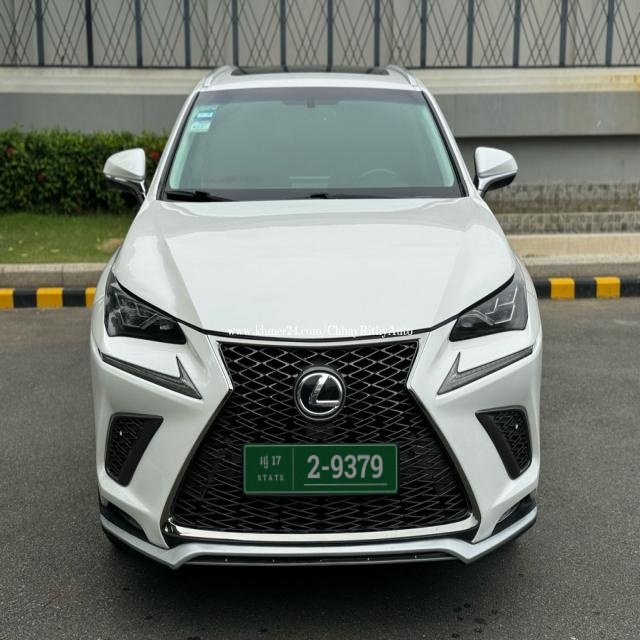Plate Number: (243, 444, 398, 494)
